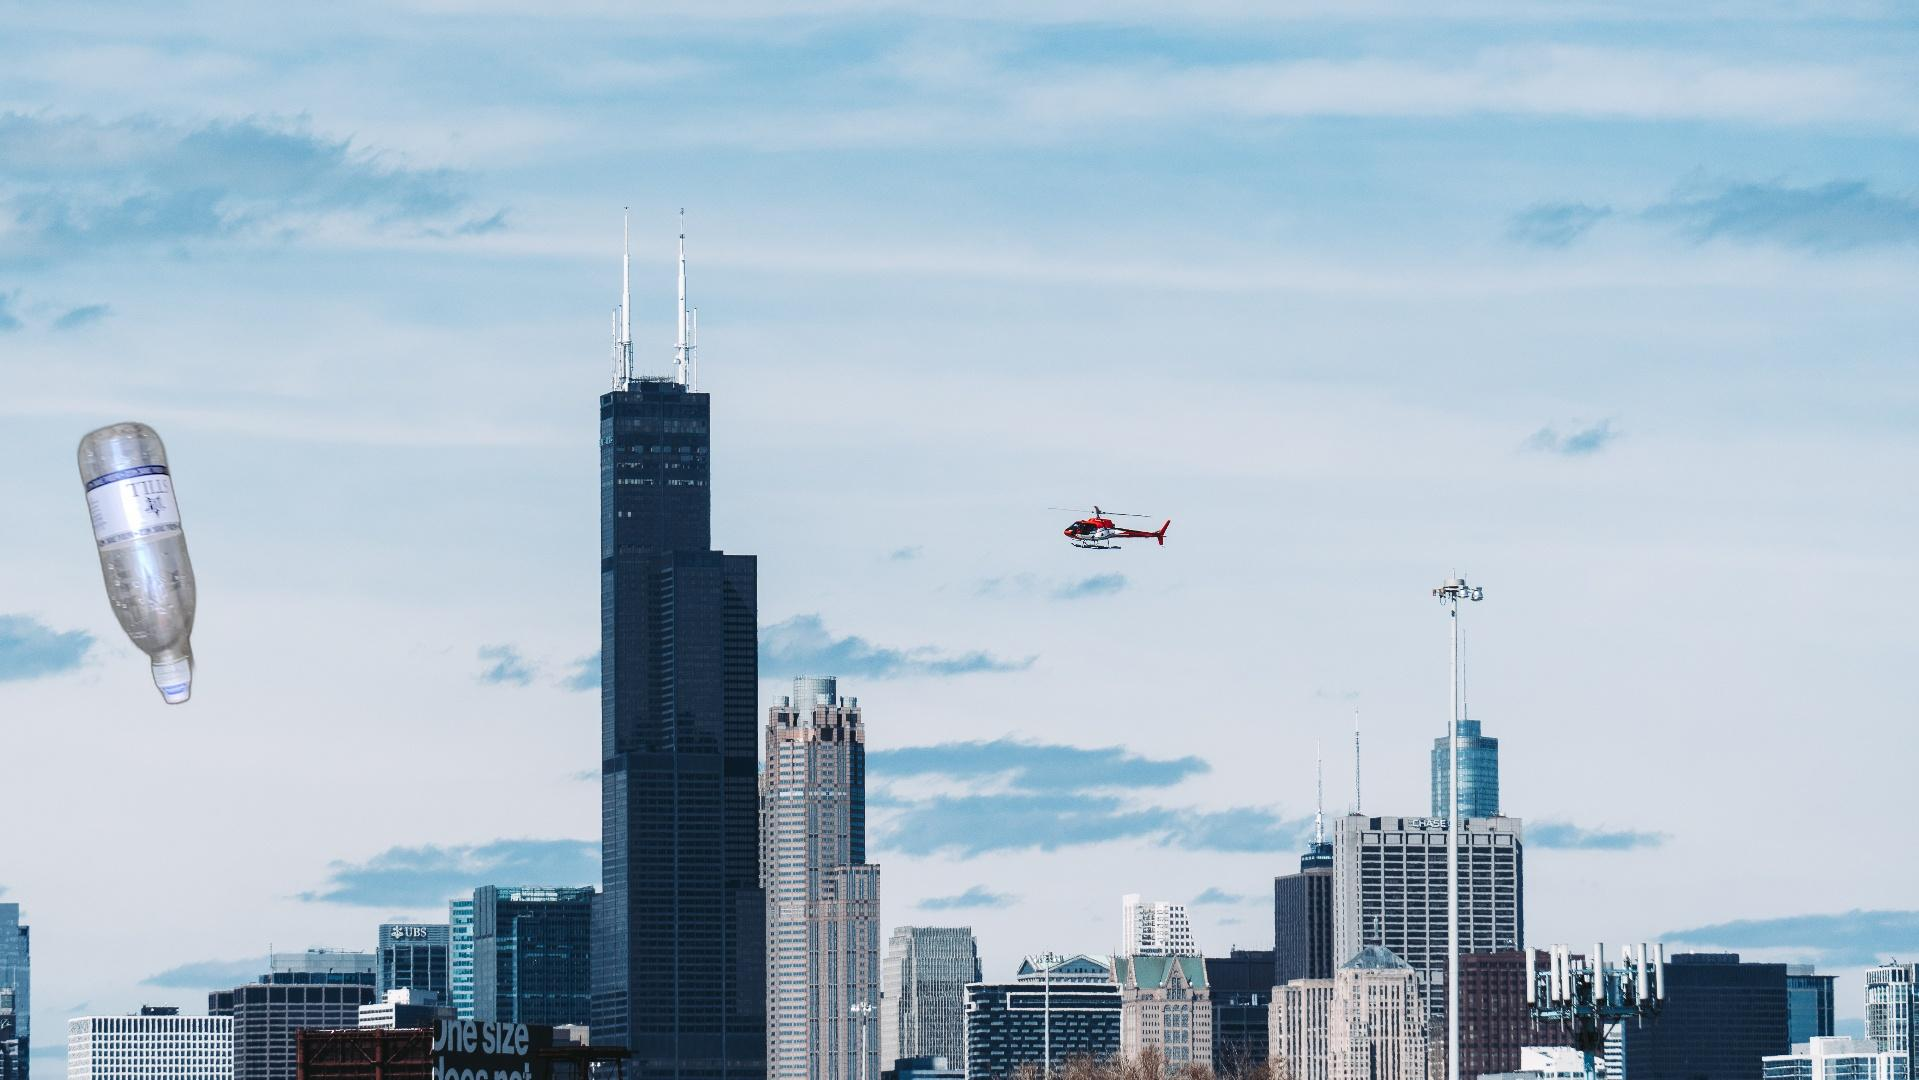plastic-bottles: (72, 417, 200, 709)
